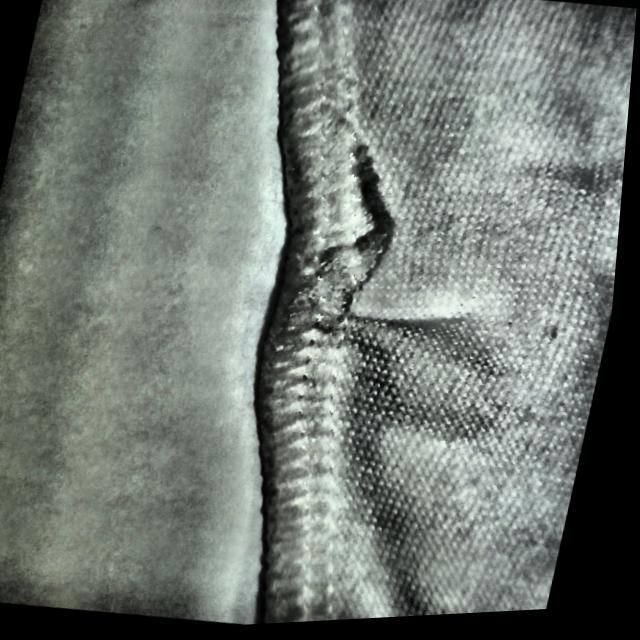seam: (257, 136, 501, 378)
